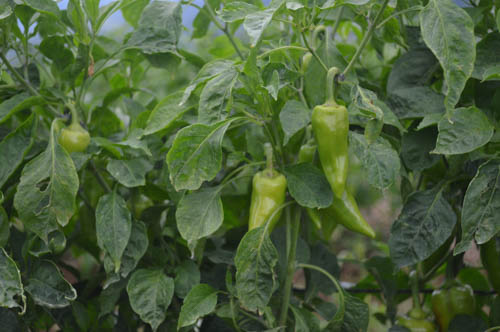ChiliPepper: (315, 109, 357, 197), (325, 190, 374, 238), (253, 169, 284, 239), (433, 285, 470, 328), (58, 130, 84, 150)
